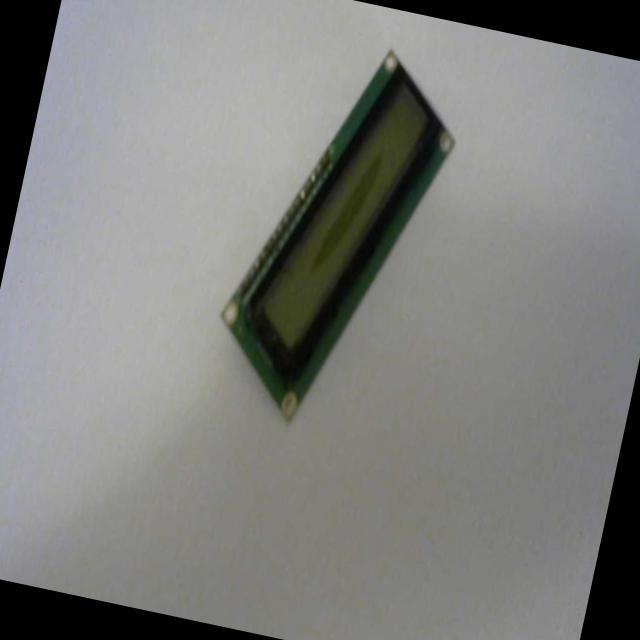lcd: (200, 22, 472, 446)
